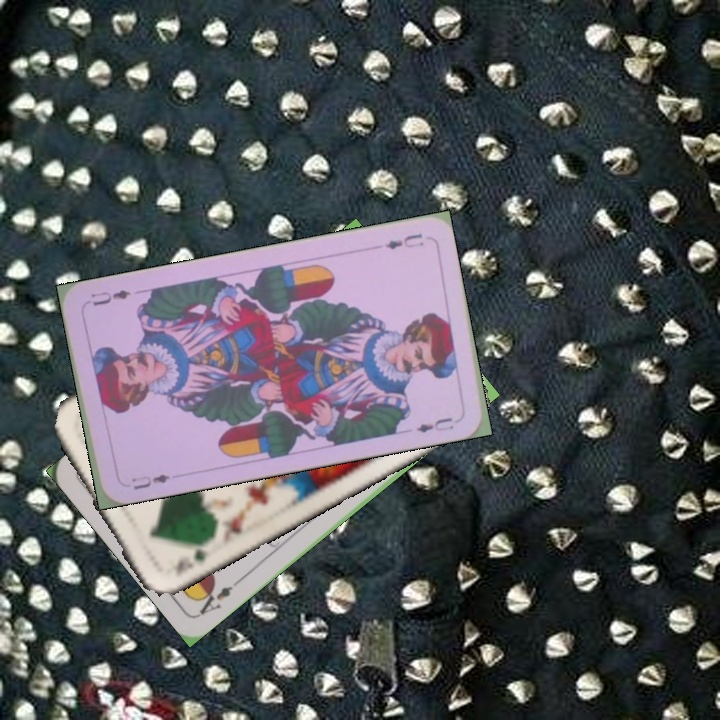EA: (192, 575, 243, 618)
EU: (381, 229, 427, 252), (128, 469, 172, 492)
GK: (172, 537, 210, 573)
